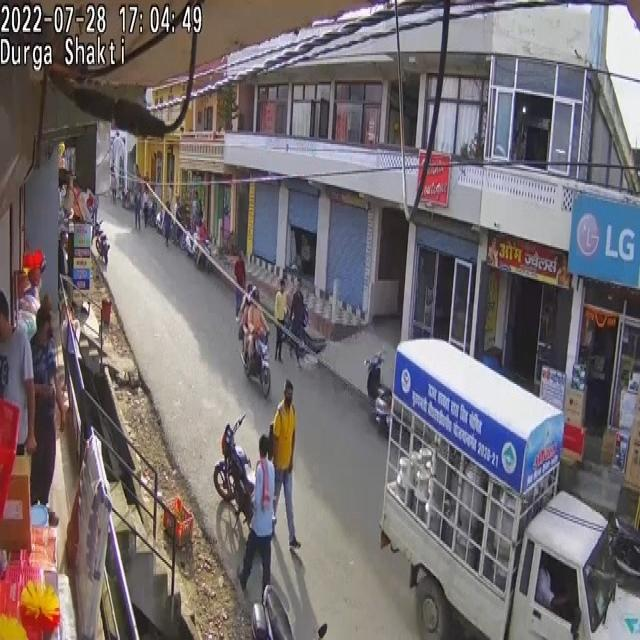non-fight: (29, 307, 66, 511), (0, 293, 36, 492), (237, 432, 275, 602), (269, 382, 299, 548), (288, 286, 305, 360), (274, 280, 288, 363), (234, 252, 246, 316), (164, 200, 172, 246), (134, 186, 142, 230)
